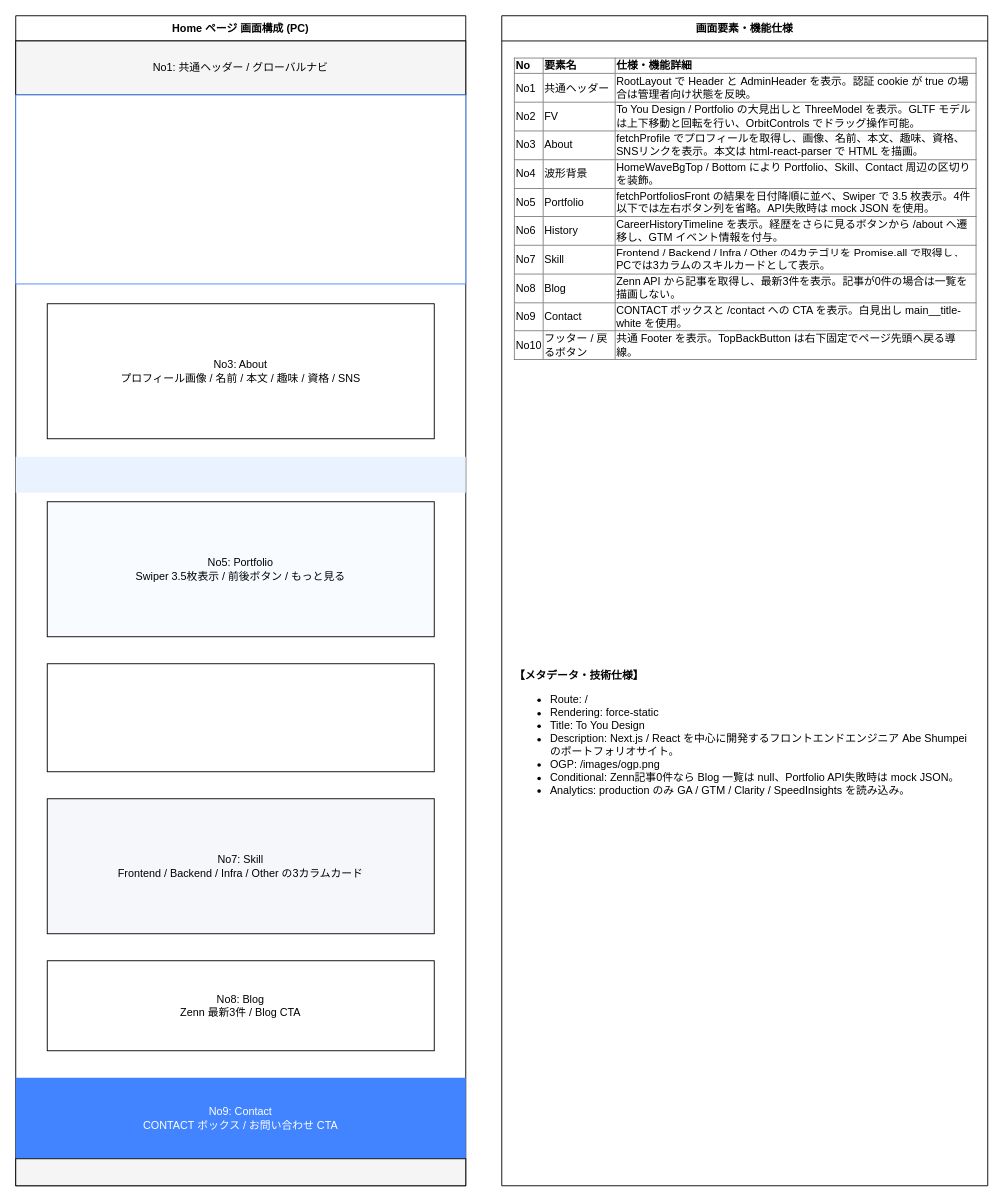
This 1004x1202 diagram has some shape labels left out. Here are the shapes that lost their labels. From the top down, the centre of each, then its label:
At point (240, 189): "No2: FV To You Design / Portfolio / Three.js GLTF".
At point (240, 474): "No4: 波形背景 Top".
At point (240, 717): "No6: History 経歴タイムライン / About CTA".
At point (240, 1172): "No10: 共通フッター / TopBackButton".
